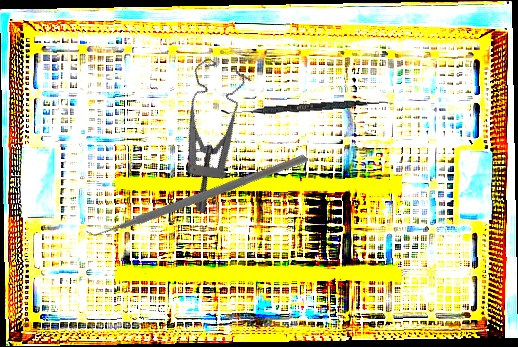Chopper: (77, 71, 309, 313)
Spatula Surgical: (220, 95, 389, 120)
Speculum: (133, 51, 277, 215)
